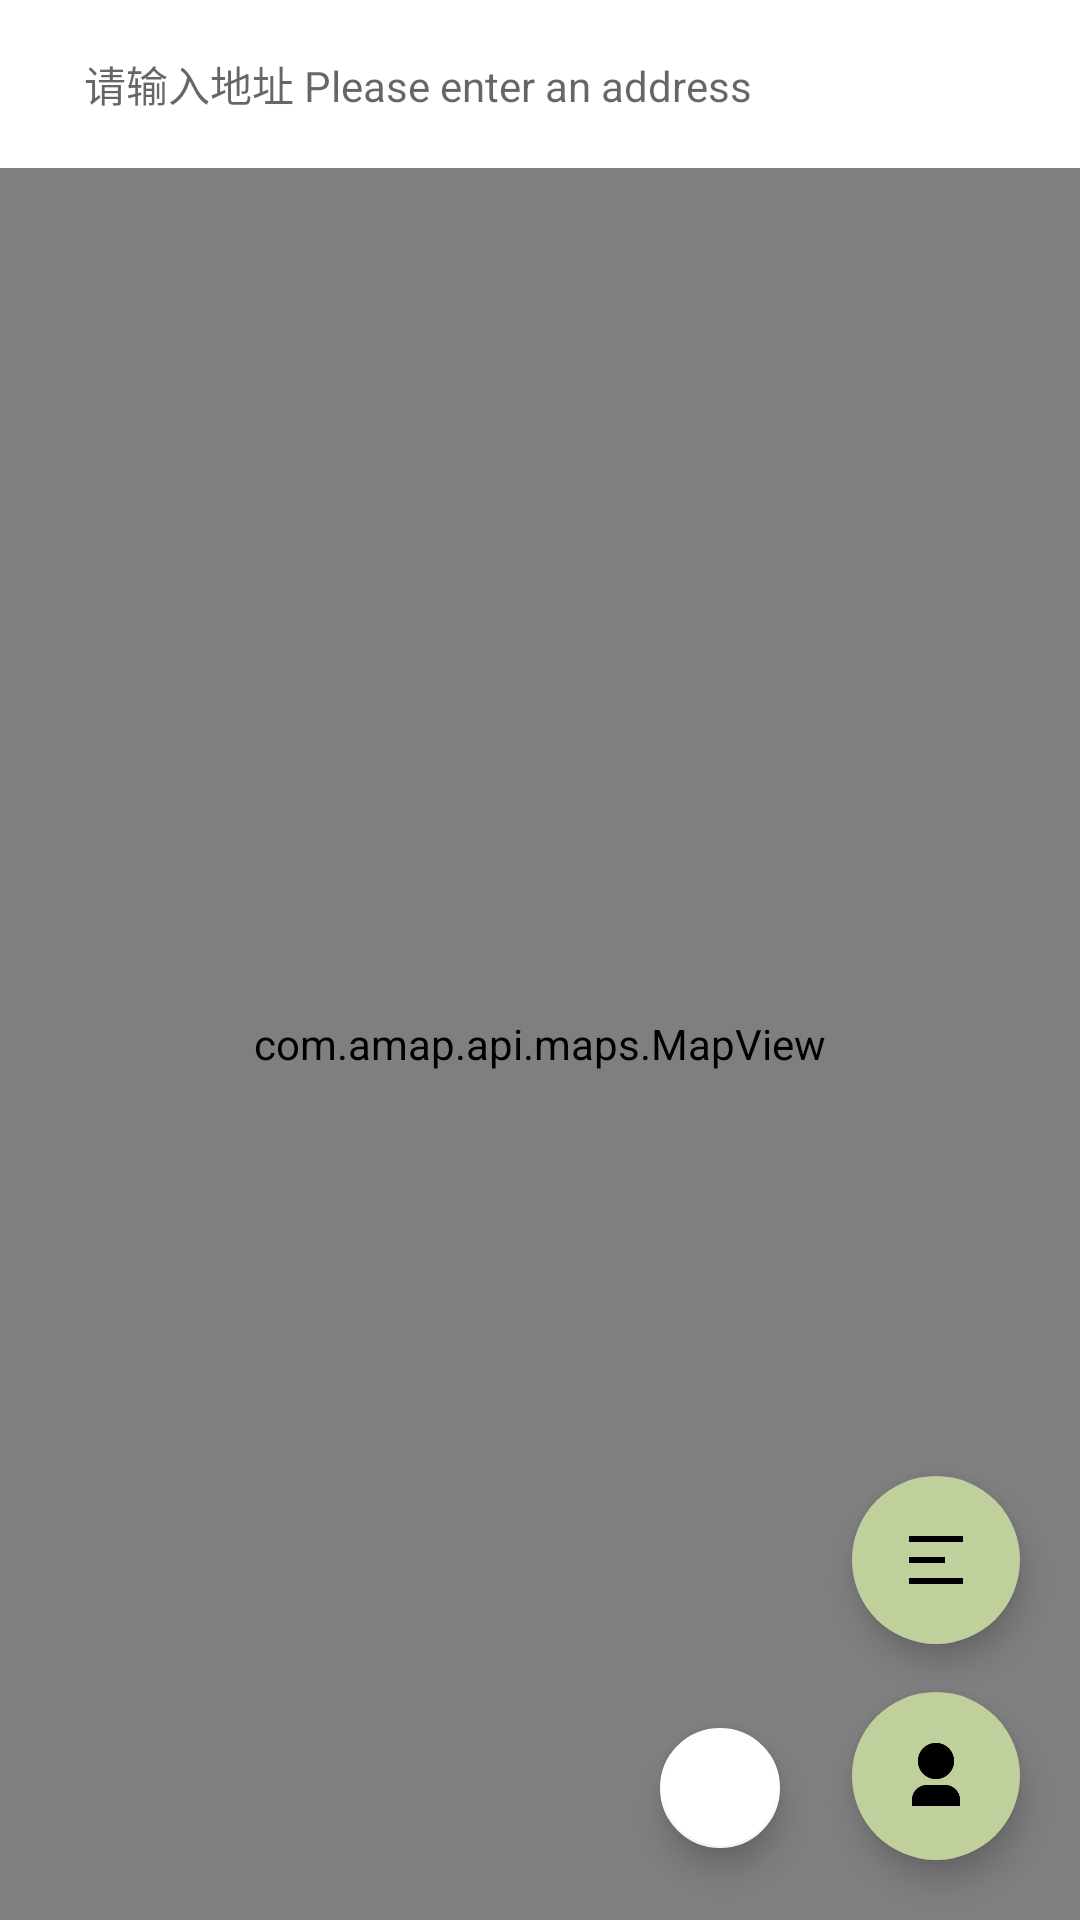

Named icons in this screenshot (1080*1920) and their centers, (x,y):
list: (936,1560)
profile: (936,1776)
